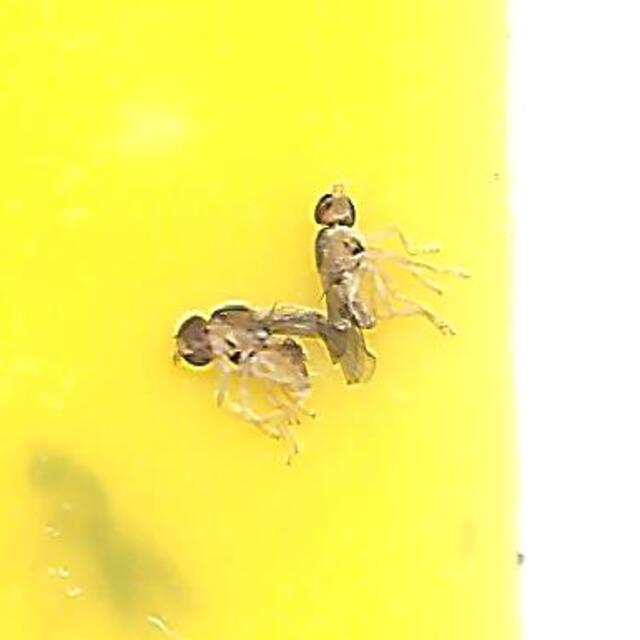Brachycera: (316, 185, 474, 390), (166, 302, 344, 455)
